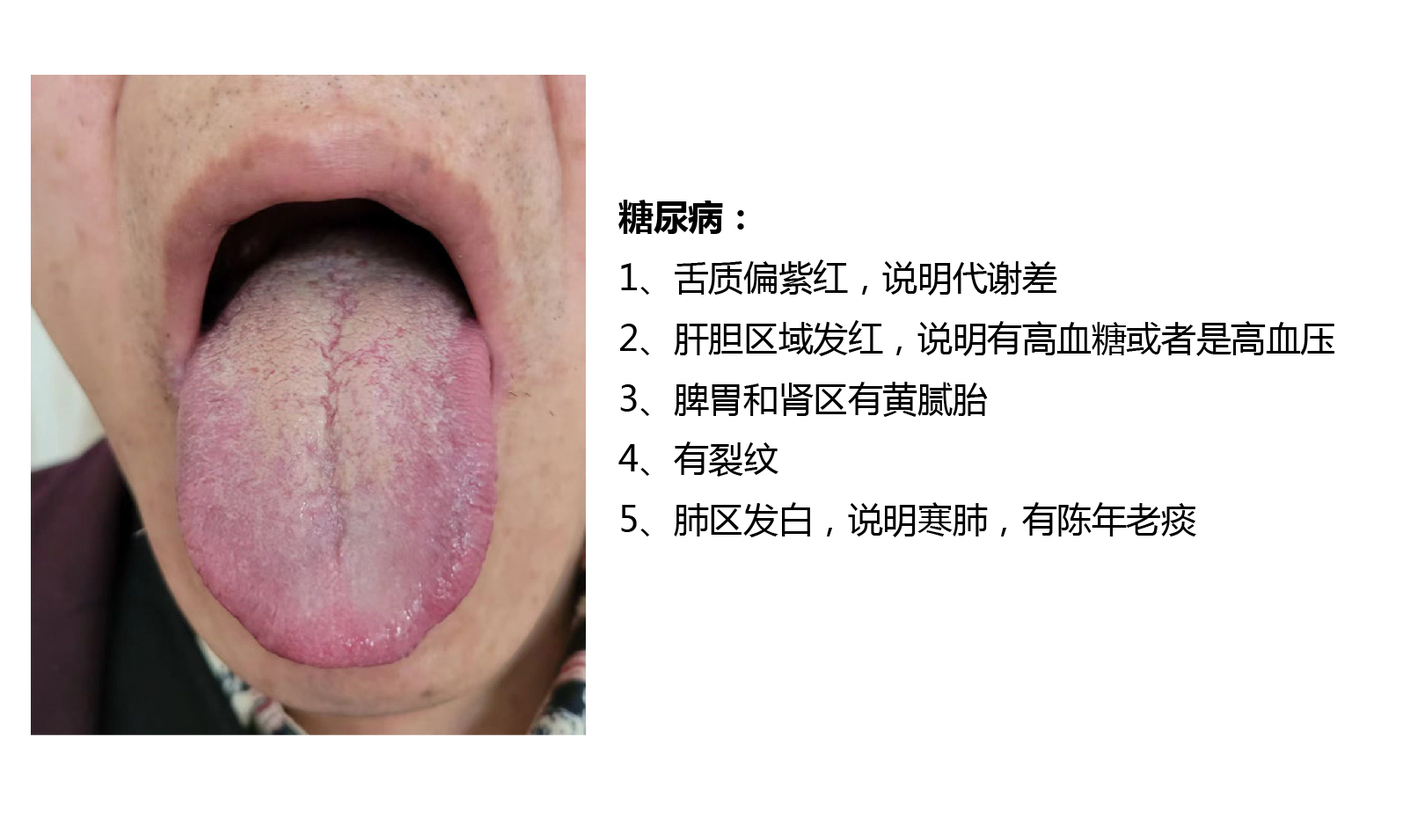huangtaishe: (177, 241, 496, 667)
liewenshe: (312, 311, 352, 569)
zishe: (177, 241, 496, 667)
